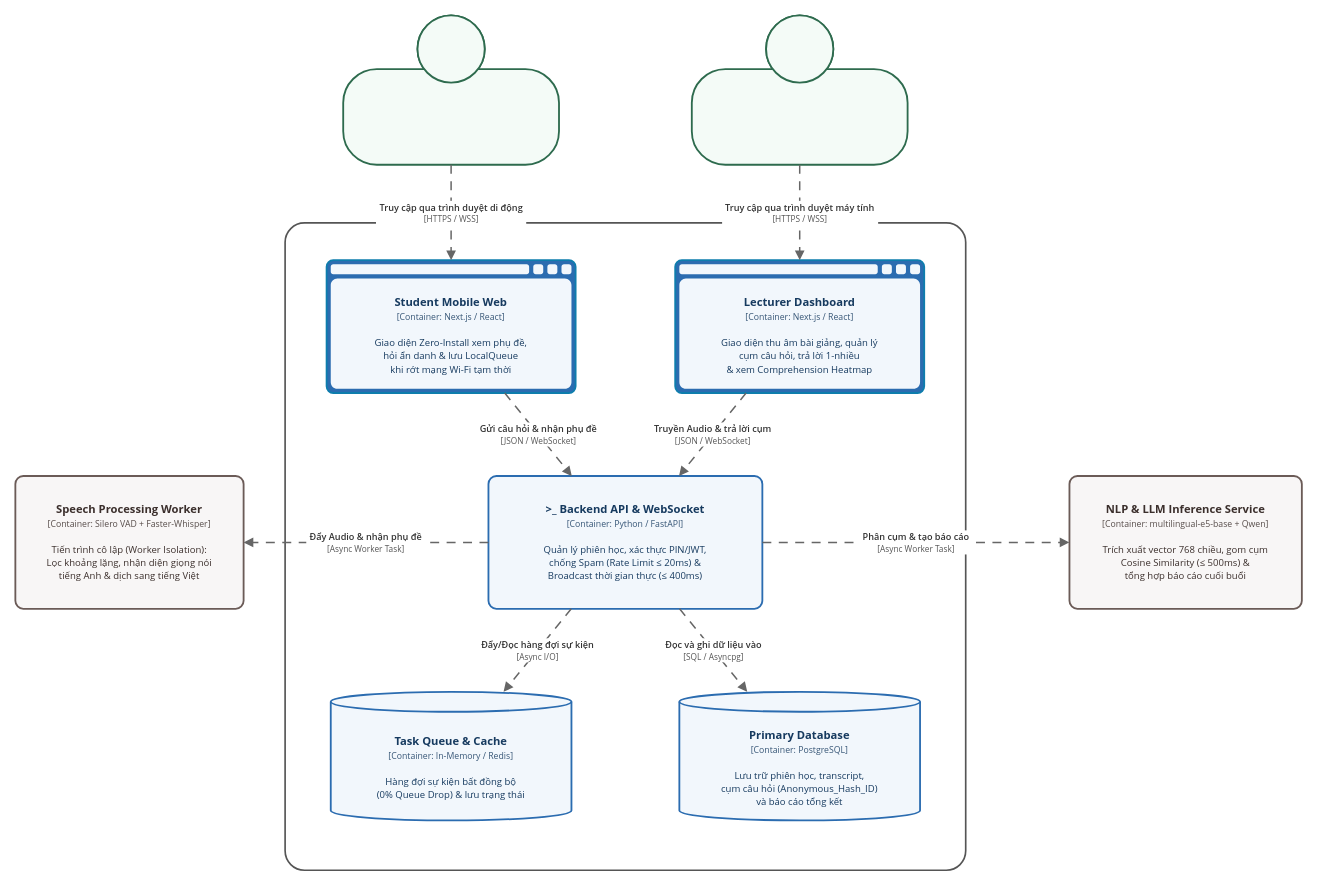
This 1317x886 diagram has some shape labels left out. The shapes that lost their labels are listed below. From the top down, each one's box as (x1, y1, x2, y2) in pixels, then its label:
(342, 14, 560, 165): Sinh viên (Student) [Person] Hỏi đáp ẩn danh & xem phụ đề song ngữ
(690, 14, 908, 165): Giảng viên & Admin [Person] Giảng bài, quản lý cụm câu hỏi & cấu hình
(284, 222, 966, 871): ClassBridge System [Software System]
